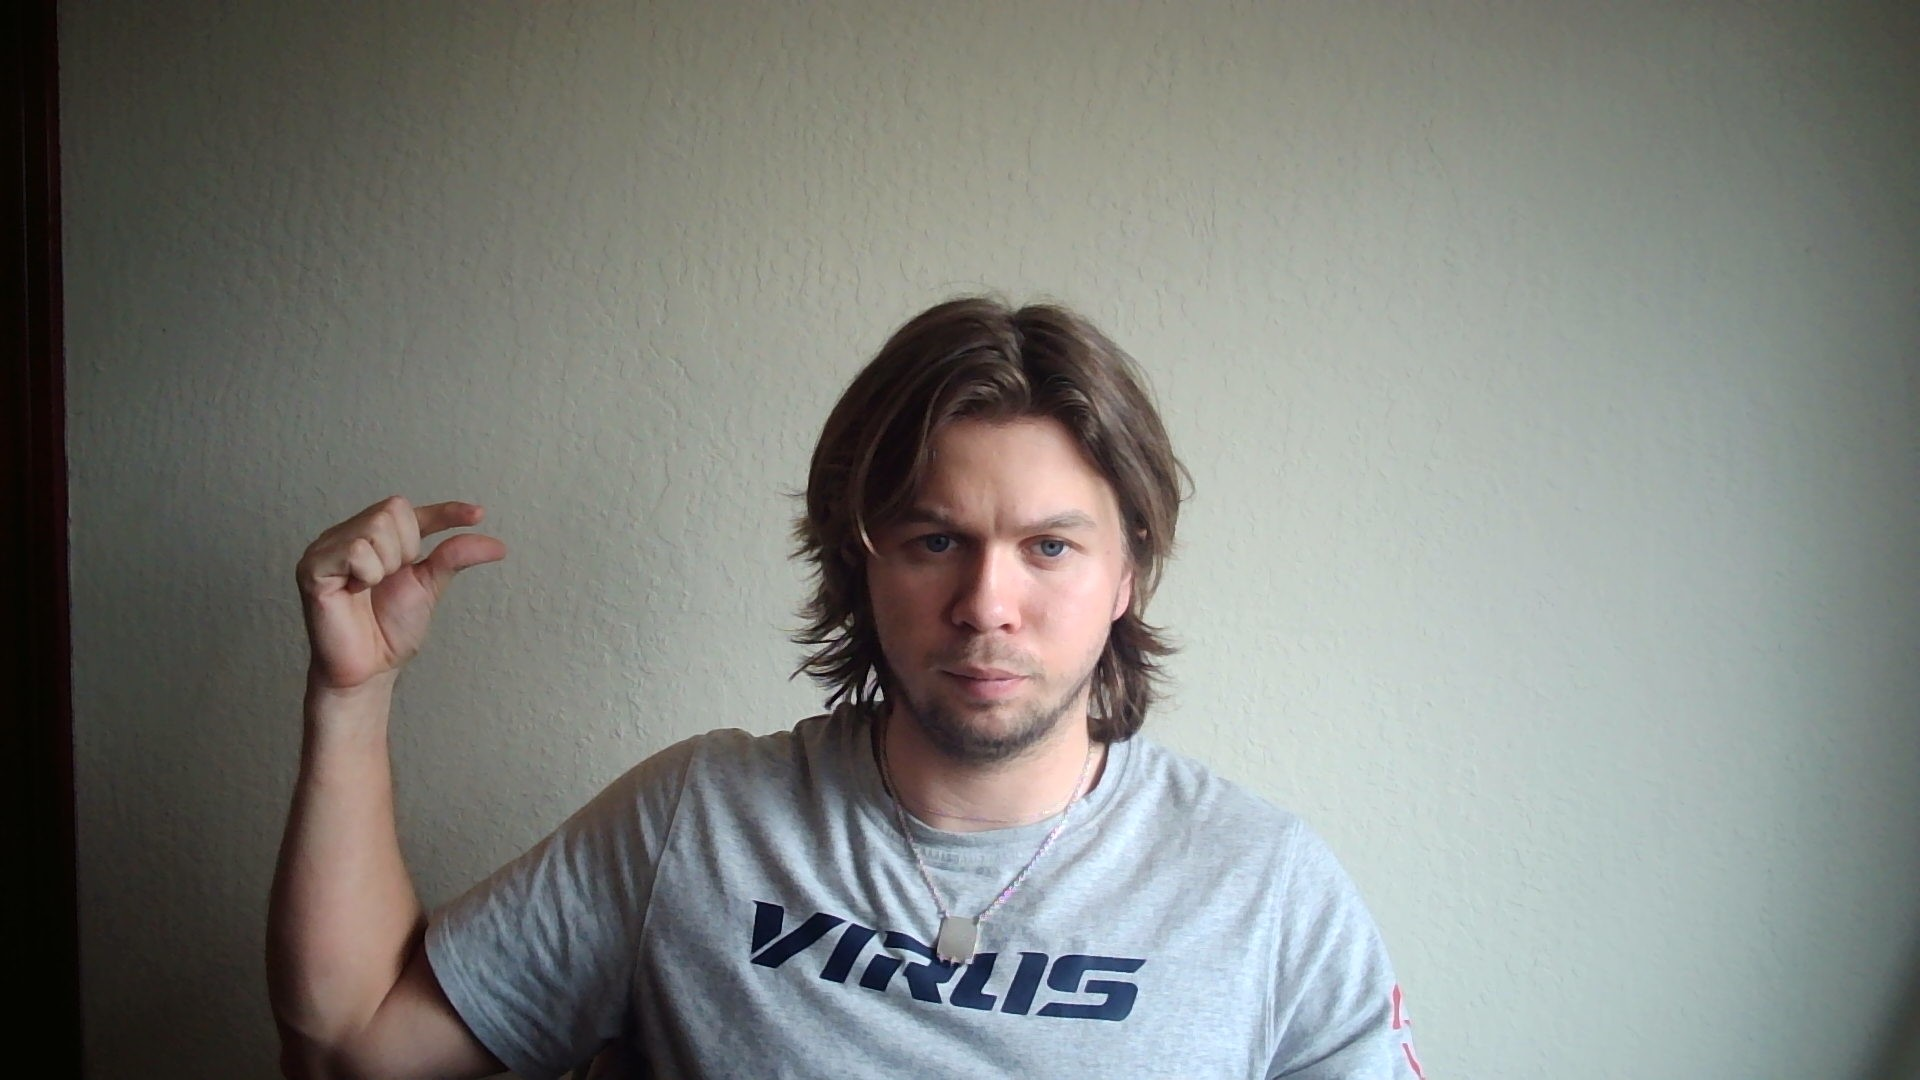small: (295, 495, 510, 684)
